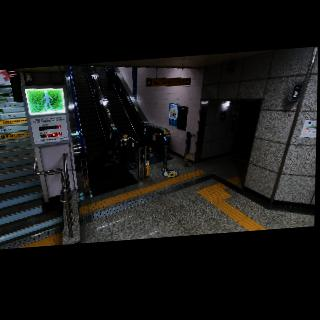anomaly: (86, 142, 119, 178)
normal: (106, 65, 116, 90)
